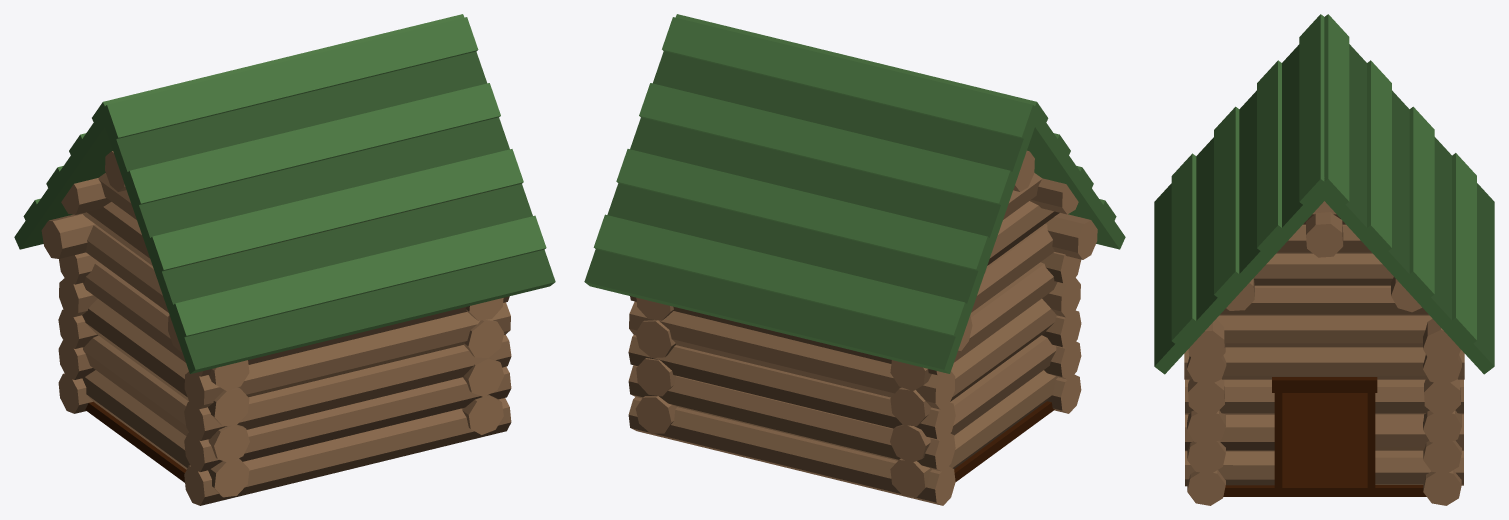
The model's file is cabin1.fbx.
3 renders of one model, left to right at view 1: azimuth 30°, elevation 25°; view 2: azimuth 150°, elevation 25°; view 3: azimuth 270°, elevation 25°, orthographic. The views are drawn at different scales.
Visible parts, largest first — view 1: Roof.L, L.1, L.4, L.3, L.2, Roof.R, B.2, B.3, B.1, B.4, B.5, R.6 (+13 smaller); view 2: Roof.R, R.1, R.4, R.2, R.3, Roof.L, B.2, B.3, B.1, B.4, B.5, L.6 (+13 smaller); view 3: Roof.R, Roof.L, Floor, F.5, F.4, F.6, F.7, F.2, F.1, F.11, F.3, F.12 (+20 smaller).
Part boxes in pixels (bbox=[...]): Roof.L: bbox=[99, 17, 555, 373]; L.1: bbox=[184, 398, 511, 505]; L.4: bbox=[184, 302, 510, 409]; L.3: bbox=[184, 334, 511, 440]; L.2: bbox=[184, 366, 511, 471]; Roof.R: bbox=[14, 14, 464, 249]; B.2: bbox=[82, 335, 249, 463]; B.3: bbox=[82, 299, 249, 426]; B.1: bbox=[82, 370, 249, 497]; B.4: bbox=[83, 262, 249, 391]; B.5: bbox=[85, 224, 168, 312]; R.6: bbox=[41, 213, 95, 258]; Roof.R: bbox=[584, 17, 1034, 373]; R.1: bbox=[628, 397, 955, 505]; R.4: bbox=[629, 301, 955, 409]; R.2: bbox=[628, 365, 955, 471]; R.3: bbox=[628, 335, 955, 439]; Roof.L: bbox=[675, 14, 1125, 249]; B.2: bbox=[890, 335, 1056, 462]; B.3: bbox=[890, 298, 1056, 426]; B.1: bbox=[890, 370, 1057, 497]; B.4: bbox=[890, 262, 1057, 390]; B.5: bbox=[971, 224, 1054, 312]; L.6: bbox=[1045, 213, 1097, 259]; Roof.R: bbox=[1314, 14, 1494, 374]; Roof.L: bbox=[1154, 14, 1324, 374]; Floor: bbox=[1223, 393, 1426, 496]; F.5: bbox=[1216, 315, 1432, 347]; F.4: bbox=[1184, 347, 1464, 379]; F.6: bbox=[1219, 285, 1429, 315]; F.7: bbox=[1254, 253, 1393, 285]; F.2: bbox=[1185, 414, 1274, 450]; F.1: bbox=[1185, 450, 1274, 486]; F.11: bbox=[1375, 414, 1463, 450]; F.3: bbox=[1185, 379, 1274, 414]; F.12: bbox=[1375, 450, 1463, 485].
Size of the model in its own units: 1984 by 1904 by 1730.
